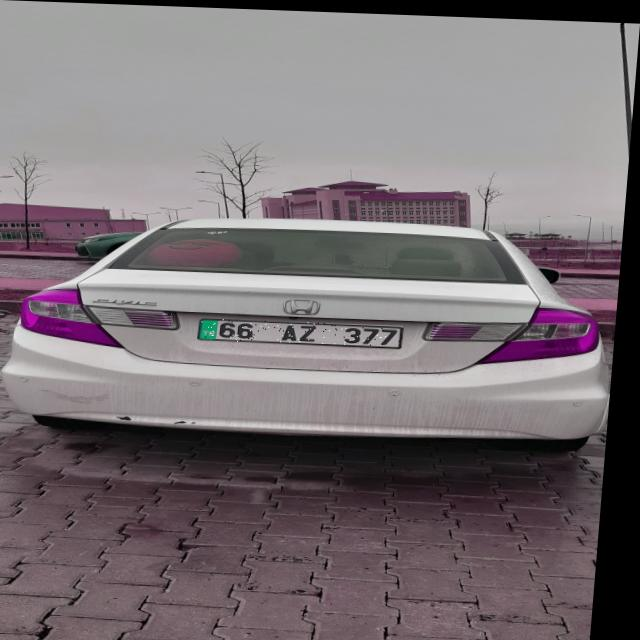license_plate: (204, 317, 408, 345)
